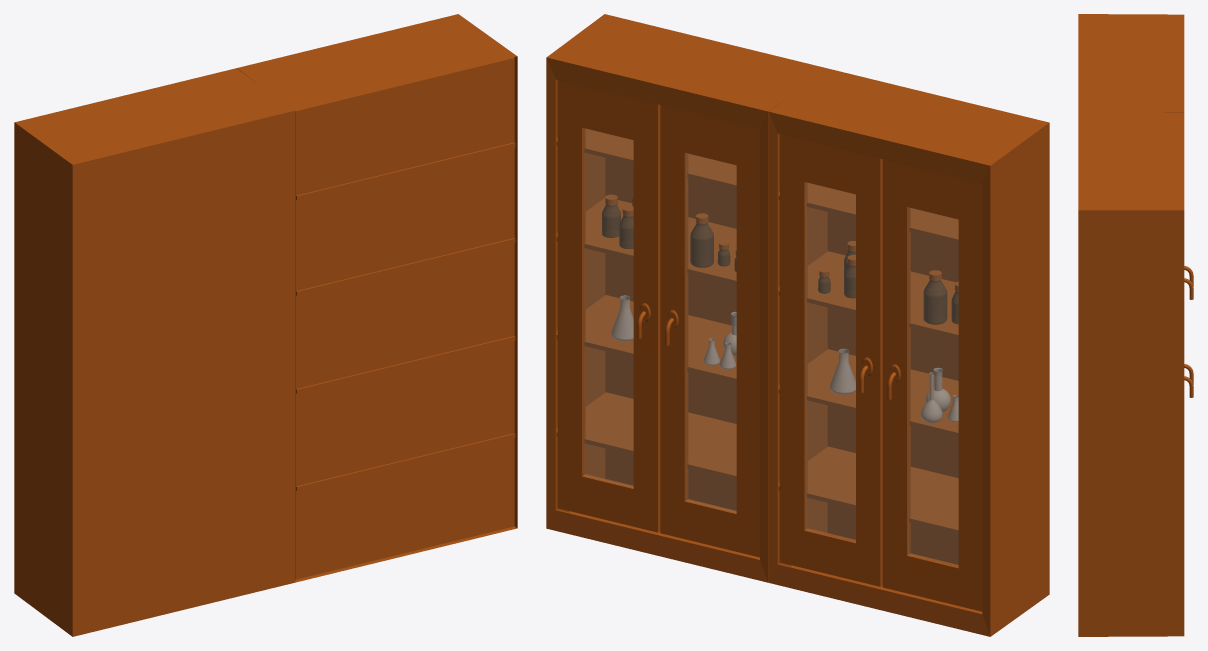
Rendered from cupbord.fbx.
The picture shows the model from 3 angles, left to right: view 1: azimuth 30°, elevation 25°; view 2: azimuth 150°, elevation 25°; view 3: azimuth 270°, elevation 25°; orthographic projection. The views are drawn at different scales.
Visible parts, largest first — view 1: cupbord; view 2: cupbord; view 3: cupbord.
Part boxes in pixels (<box>): cupbord: <box>14,14,517,636</box>; cupbord: <box>546,14,1049,636</box>; cupbord: <box>1078,14,1193,636</box>.
Size of the model in its own units: 546 by 553 by 135.
